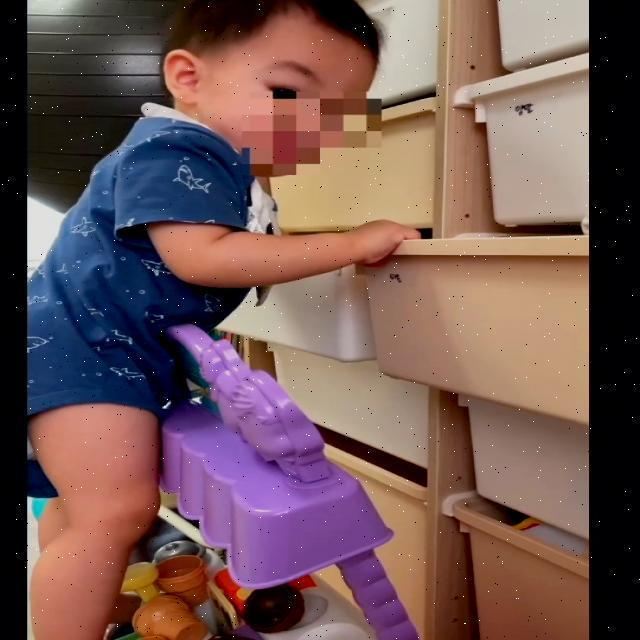child: (33, 0, 414, 640)
